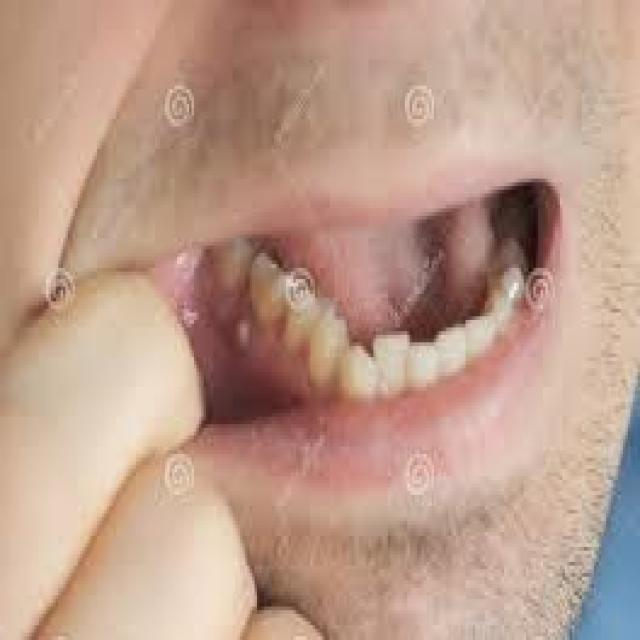abscess: (222, 308, 268, 343)
